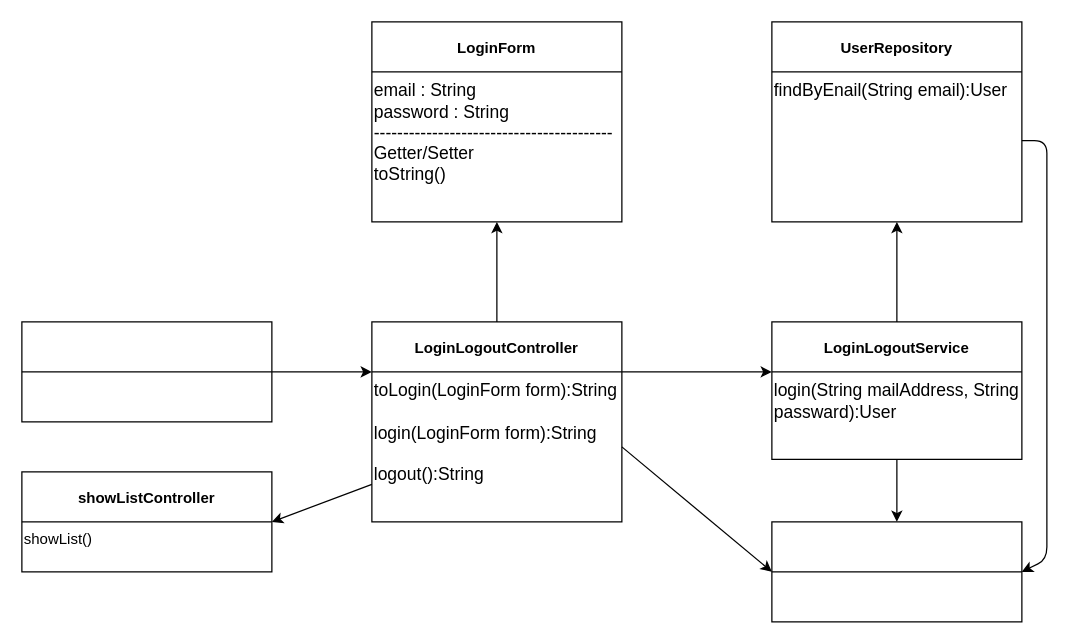
This 1079x644 diagram has some shape labels left out. Here are the shapes that lost their labels. From the top down, the centre of each, then its label:
At point 146,371: "login.html".
At point 896,571: "User".
